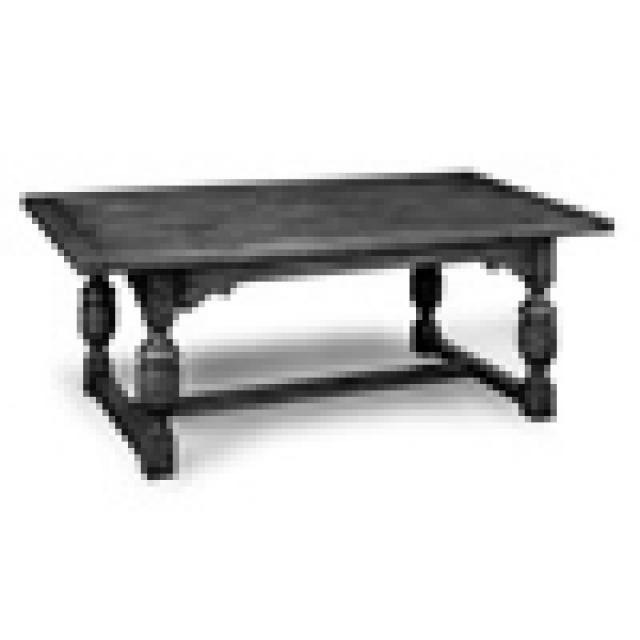table: (19, 167, 614, 481)
